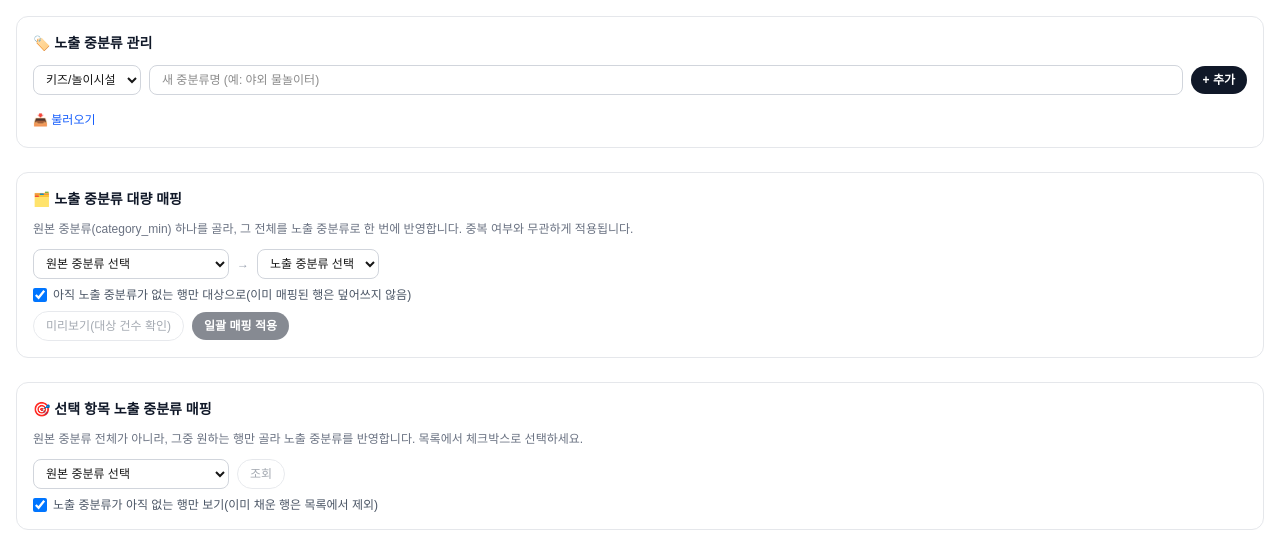
Test case: CategoryMappingPanel › 노출 중분류 대량 매핑 › 원본/노출 중분류를 고르고 미리보기를 누르면 대상 건수를 보여준다
Select "공원" in the 2nd dropdown showing "원본 중분류 선택" at coordinates (131, 264), box [33, 249, 229, 279]
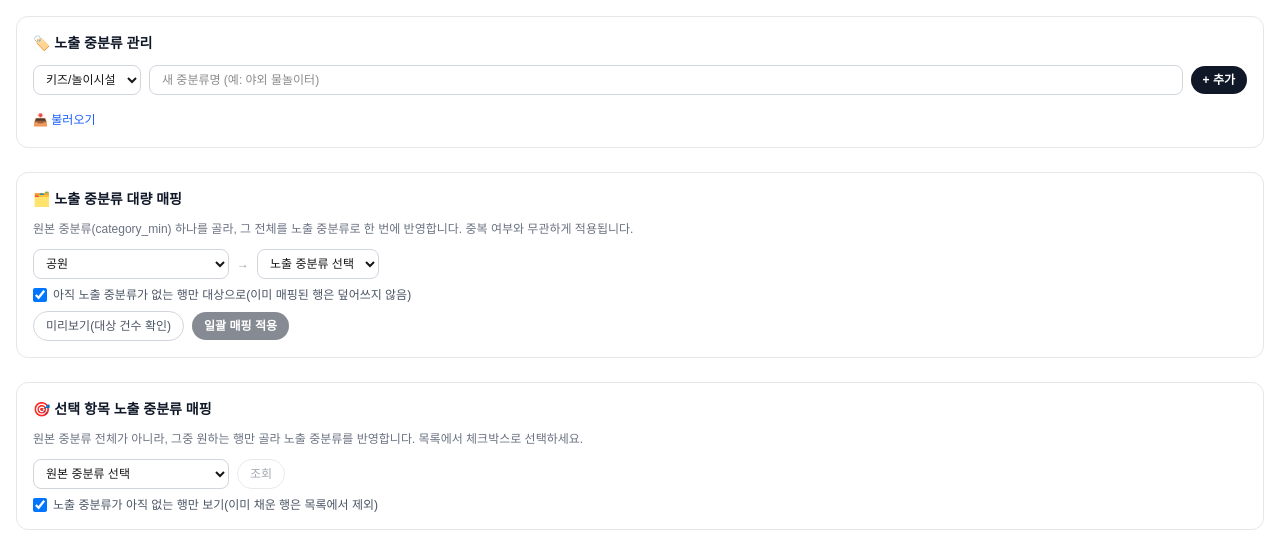
Click the button "미리보기(대상 건수 확인)".
click(109, 326)  # box [33, 311, 184, 341]
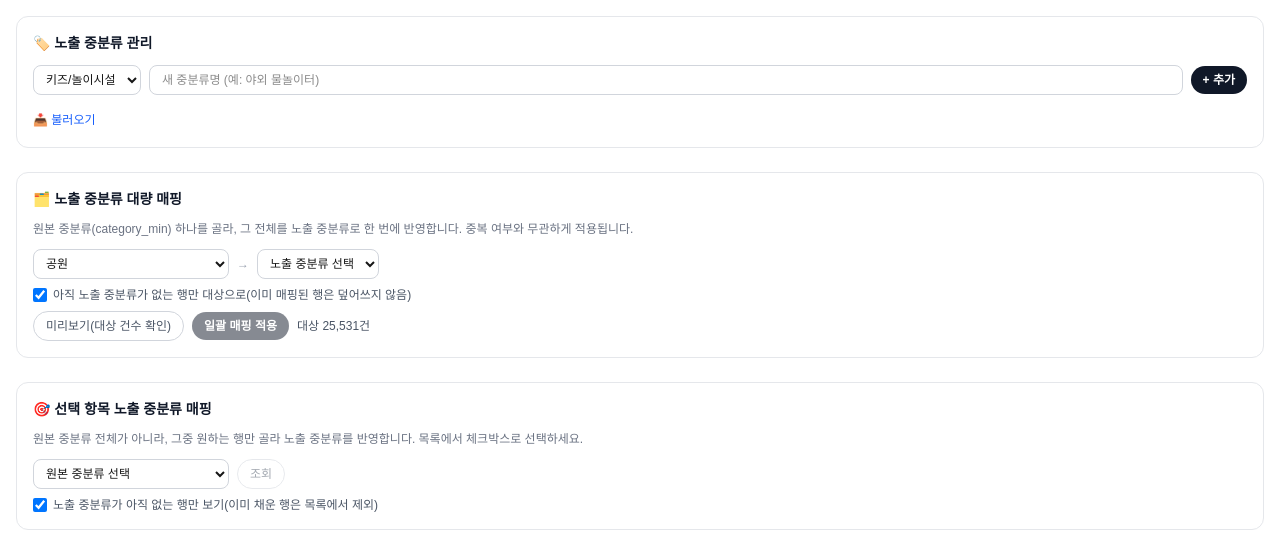
Result: the text "대상 25,531건" is shown at [297, 318, 370, 334]
